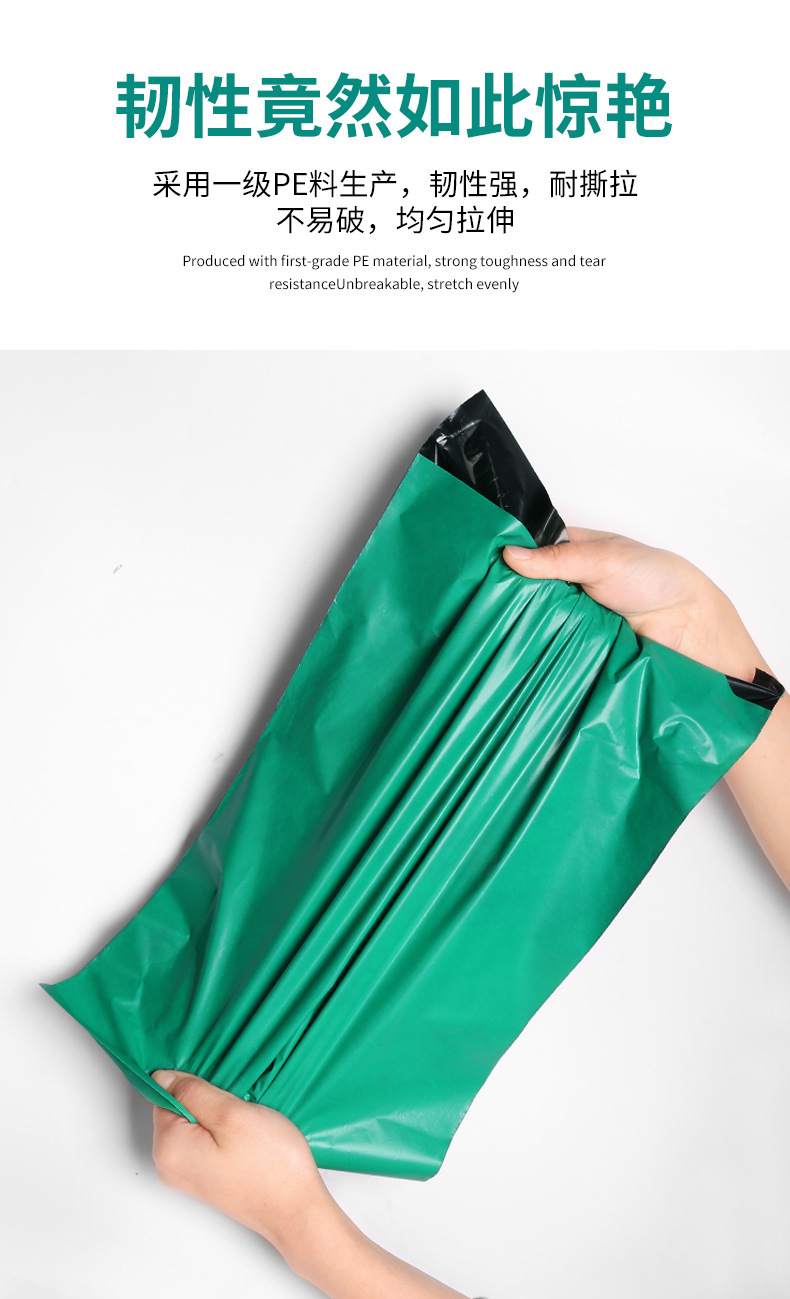塑料袋: (16, 451, 775, 1262)
